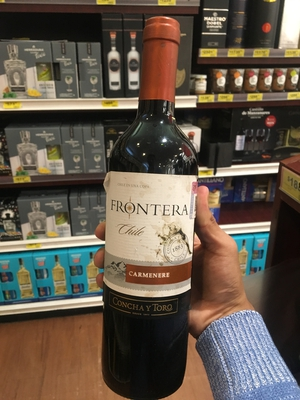frontera carmenere: (101, 27, 205, 383)
